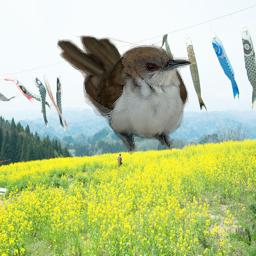Cuckoo: (57, 35, 193, 156)
